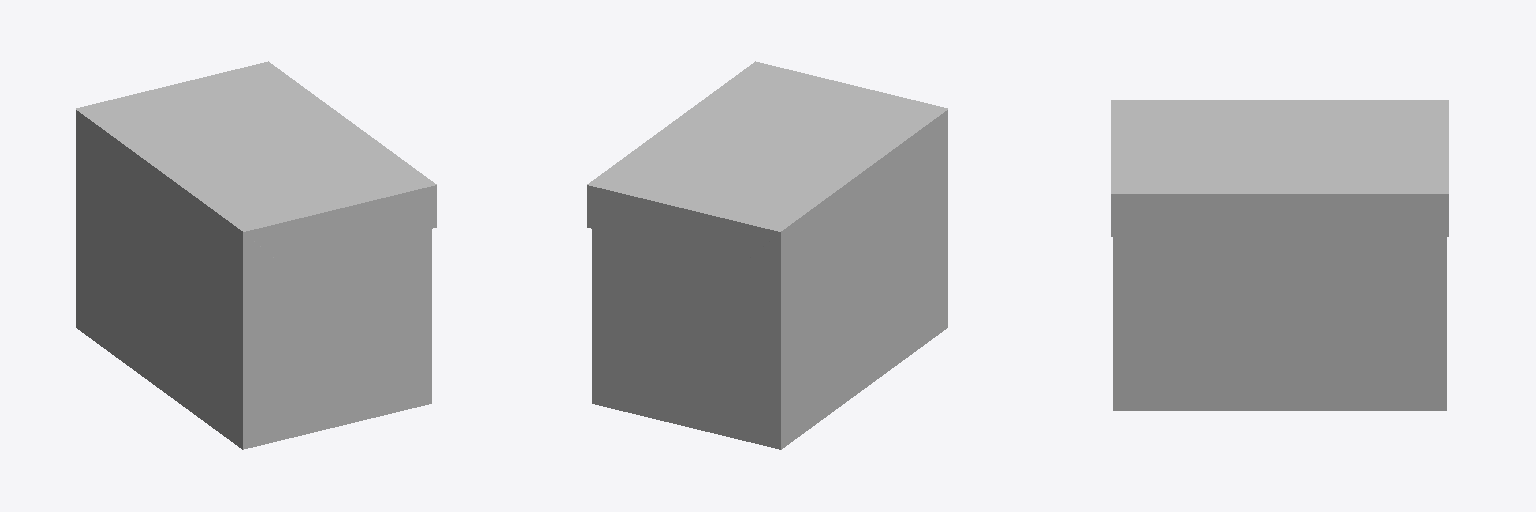
File: ikea box.obj
3 renders of one model, left to right at view 1: azimuth 30°, elevation 25°; view 2: azimuth 150°, elevation 25°; view 3: azimuth 270°, elevation 25°, orthographic.
Parts seen in each view (by area): view 1: Box; view 2: Box; view 3: Box.
Boxes of the visible parts, box(x1,y1,x2,y2) form: Box: box(76, 61, 436, 449); Box: box(587, 61, 947, 449); Box: box(1111, 100, 1448, 410).
Bounding box in the file's own units: 3.29 × 3.55 × 4.97.